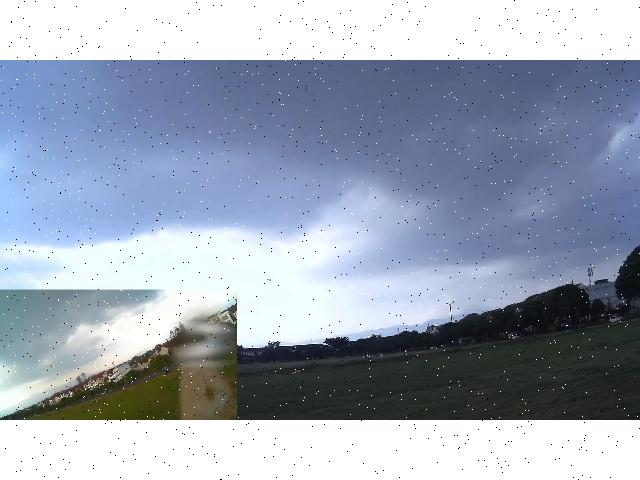Anti-Drone: (257, 277, 279, 290)
